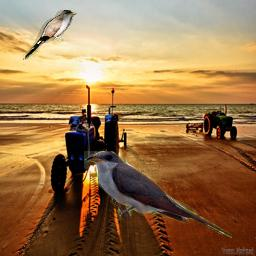Cuckoo: (84, 151, 232, 240), (23, 10, 77, 60)
